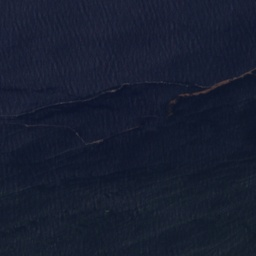Marine Debris: (168, 67, 256, 116)
